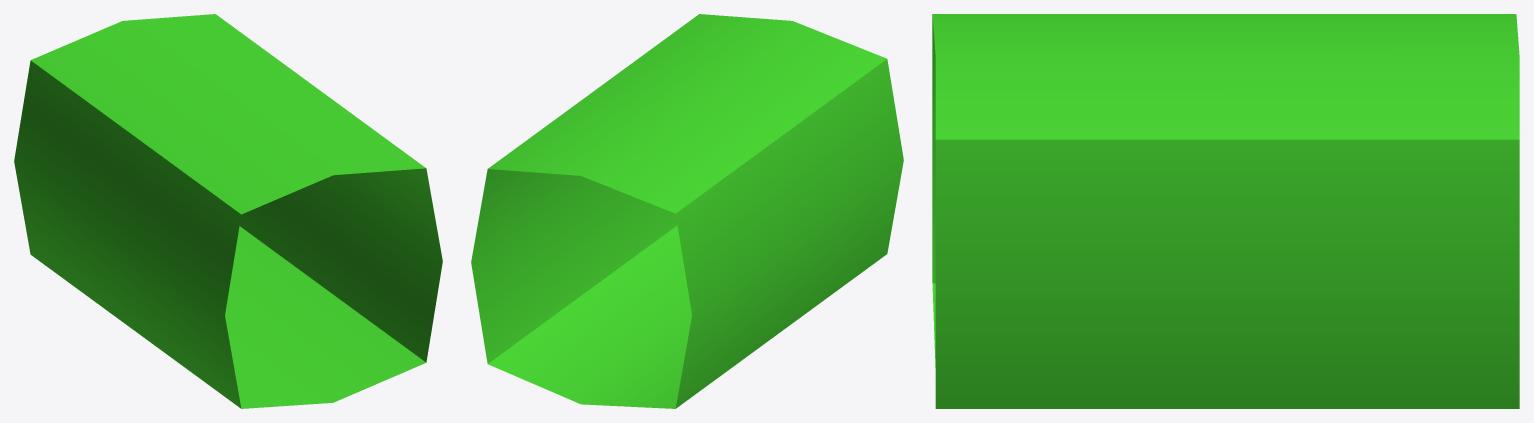
Rendered from Round Door 01.FBX.
The picture shows the model from 3 angles, left to right: view 1: azimuth 30°, elevation 25°; view 2: azimuth 150°, elevation 25°; view 3: azimuth 270°, elevation 25°; orthographic projection. The views are drawn at different scales.
Visible parts, largest first — view 1: Round Door 01; view 2: Round Door 01; view 3: Round Door 01.
Part boxes in pixels (left/top/right/bottom): Round Door 01: left=14, top=14, right=442, bottom=408; Round Door 01: left=471, top=14, right=903, bottom=408; Round Door 01: left=932, top=14, right=1519, bottom=408.
Size of the model in its own units: 125 by 124 by 210.
1 material, 1 textured.
